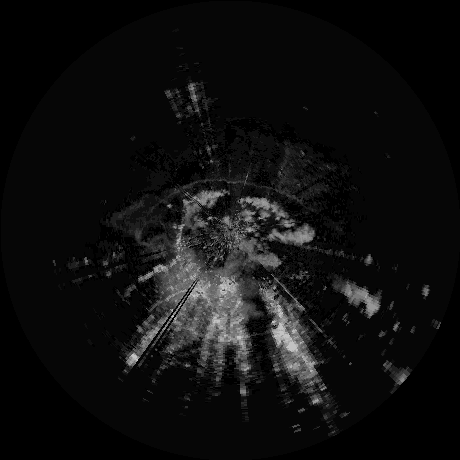frontgust: (157, 174, 307, 207)
